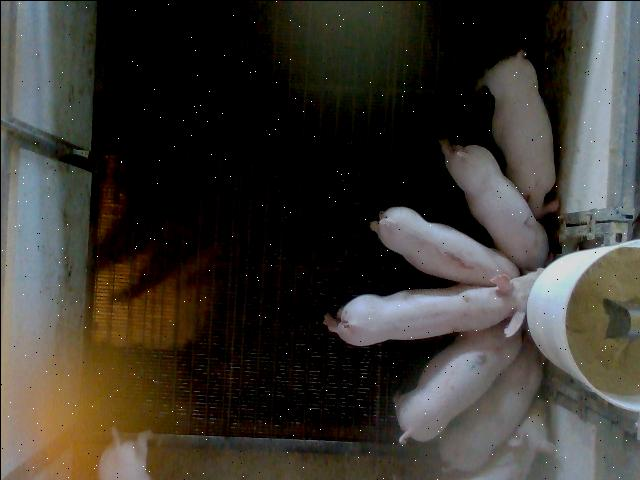pig-1: (370, 206, 518, 285)
